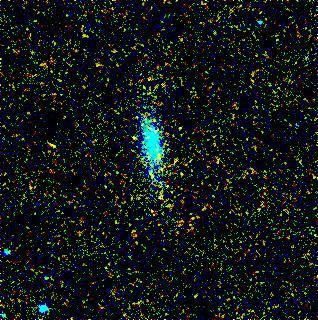star: (117, 123, 147, 153)
